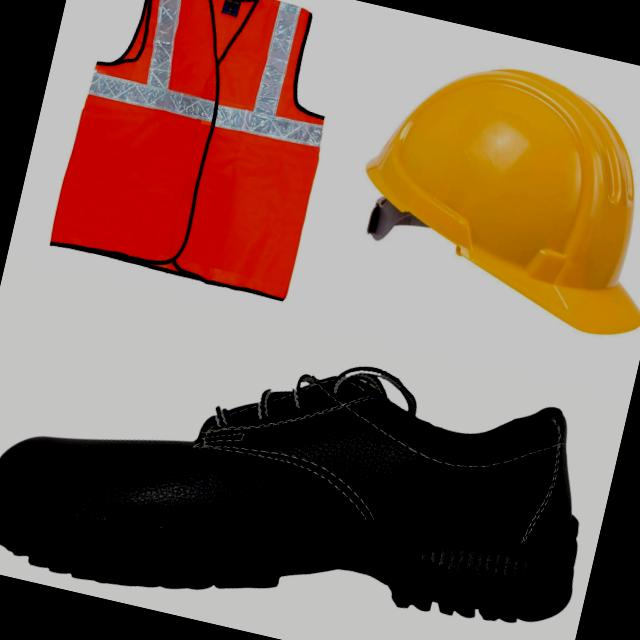helmet: (330, 27, 640, 354)
vest: (21, 0, 380, 318)
